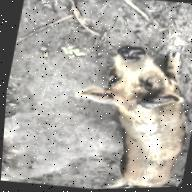boar: (55, 38, 192, 190)
